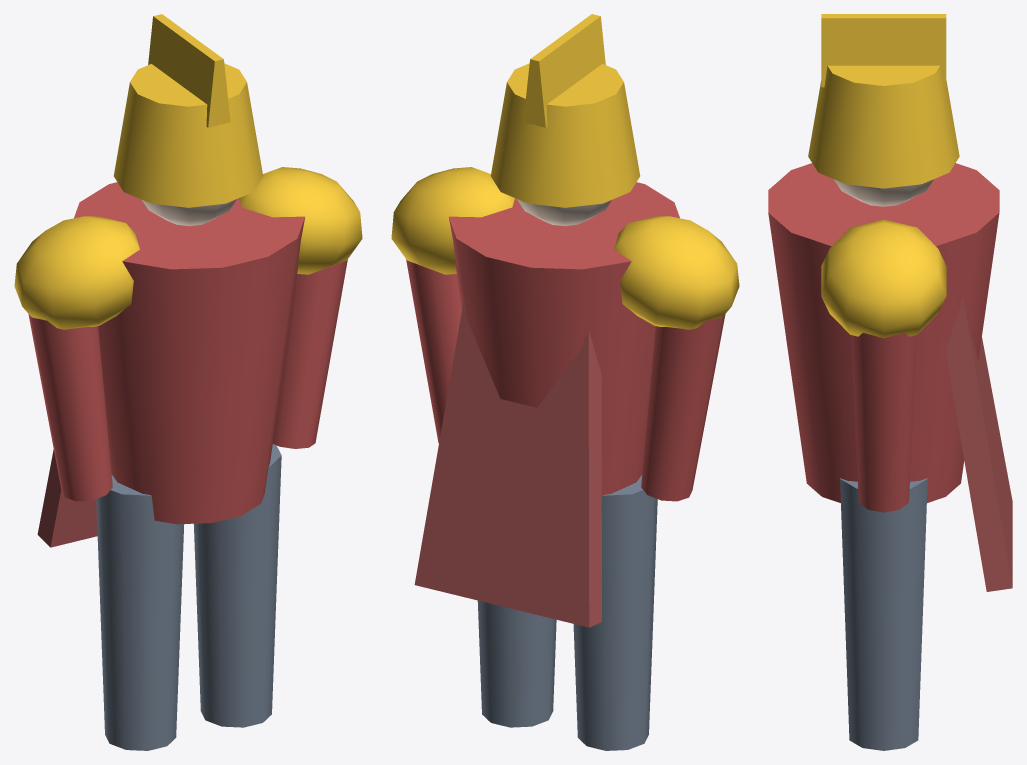
The model's file is hero_dk.glb.
3 views of the same model, side by side, from view 1: azimuth 30°, elevation 25°; view 2: azimuth 150°, elevation 25°; view 3: azimuth 270°, elevation 25° (orthographic).
Visible parts, largest first — view 1: armor_torso, greaves, helmet, arms, pauldrons, cloak, head; view 2: cloak, armor_torso, greaves, helmet, pauldrons, arms, head; view 3: armor_torso, helmet, greaves, pauldrons, arms, cloak, head.
Part boxes in pixels (x1,y1,x2,y2): armor_torso: (74, 182, 304, 524); greaves: (96, 444, 281, 750); helmet: (113, 14, 263, 207); arms: (28, 259, 347, 501); pauldrons: (14, 167, 362, 329); cloak: (37, 449, 97, 547); head: (142, 199, 236, 226); cloak: (414, 299, 601, 627); armor_torso: (449, 182, 679, 499); greaves: (477, 475, 657, 750); helmet: (490, 14, 640, 207); pauldrons: (391, 167, 739, 329); arms: (406, 259, 725, 501); head: (517, 199, 611, 226); armor_torso: (768, 163, 999, 502); helmet: (808, 14, 959, 188); greaves: (840, 478, 927, 750); pauldrons: (821, 219, 946, 338); arms: (851, 333, 916, 512); cloak: (945, 298, 1012, 591); head: (833, 179, 933, 206).
Size of the model in its own units: 1.18 by 2.33 by 0.7421.
